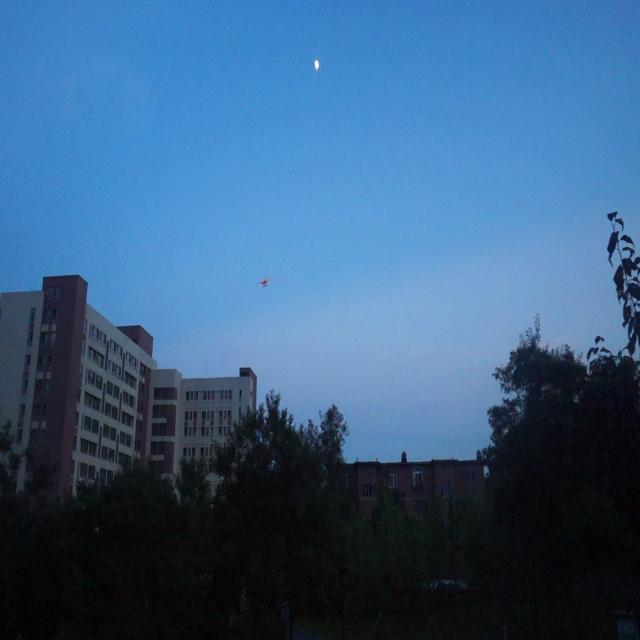drone: (258, 272, 272, 294)
